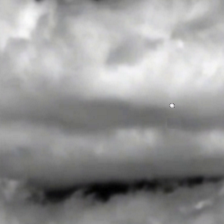Target: (169, 102, 176, 109)
